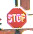stopsign: (6, 8, 27, 29)
